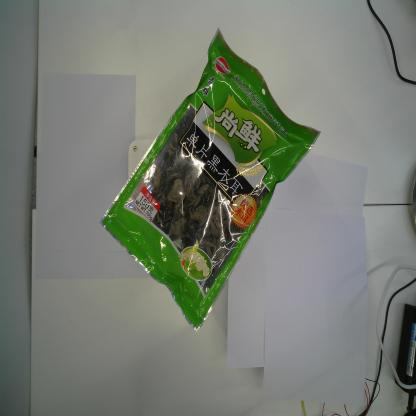Dried Food: (97, 24, 324, 332)
